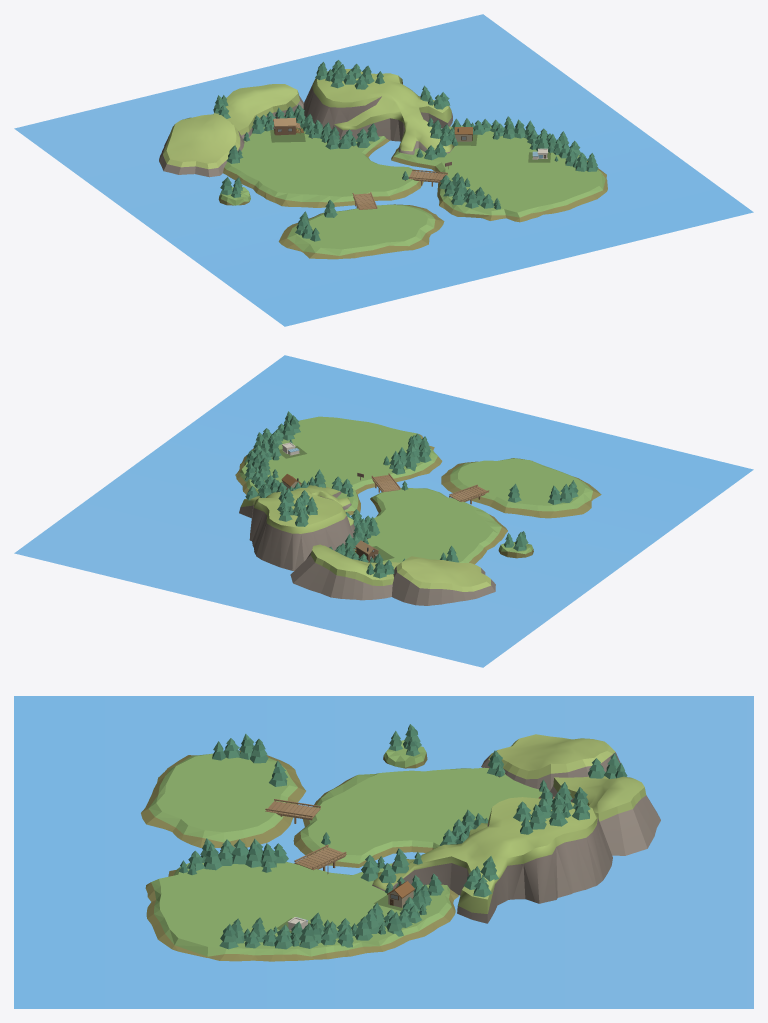
Rendered from island.fbx.
The picture shows the model from 3 angles, top to bottom: view 1: azimuth 30°, elevation 25°; view 2: azimuth 150°, elevation 25°; view 3: azimuth 270°, elevation 25°; orthographic projection. The views are drawn at different scales.
Visible parts, largest first — view 1: pPlane1, pCube1, pCube3, pDisc1, pDisc2, pDisc4, pDisc5; view 2: pPlane1, pCube1, pCube3, pDisc2, pDisc1, pDisc4, pDisc5; view 3: pPlane1, pCube1, pCube3, pDisc1, pDisc2, pDisc5, pDisc4, bridge_1, bridge_2, pDisc3.
Part boxes in pixels (box(x1,y1,x2,y2)): pPlane1: box(14, 14, 753, 326); pCube1: box(391, 125, 607, 222); pCube3: box(223, 127, 423, 207); pDisc1: box(303, 69, 454, 154); pDisc2: box(278, 204, 444, 259); pDisc4: box(159, 114, 244, 177); pDisc5: box(213, 84, 303, 139); pPlane1: box(14, 355, 753, 667); pCube1: box(235, 416, 442, 515); pCube3: box(367, 487, 507, 564); pDisc2: box(441, 458, 601, 518); pDisc1: box(239, 485, 354, 570); pDisc4: box(391, 556, 495, 605); pDisc5: box(290, 544, 400, 600); pPlane1: box(14, 696, 753, 1008); pCube1: box(145, 862, 458, 961); pCube3: box(293, 767, 554, 867); pDisc1: box(372, 797, 612, 923); pDisc2: box(141, 750, 305, 848); pDisc5: box(550, 776, 660, 855); pDisc4: box(481, 734, 620, 790); bridge_1: box(265, 799, 320, 823); bridge_2: box(294, 845, 346, 871); pDisc3: box(383, 740, 427, 768).
Bounding box in the file's own units: 3026 × 444 × 3026.
